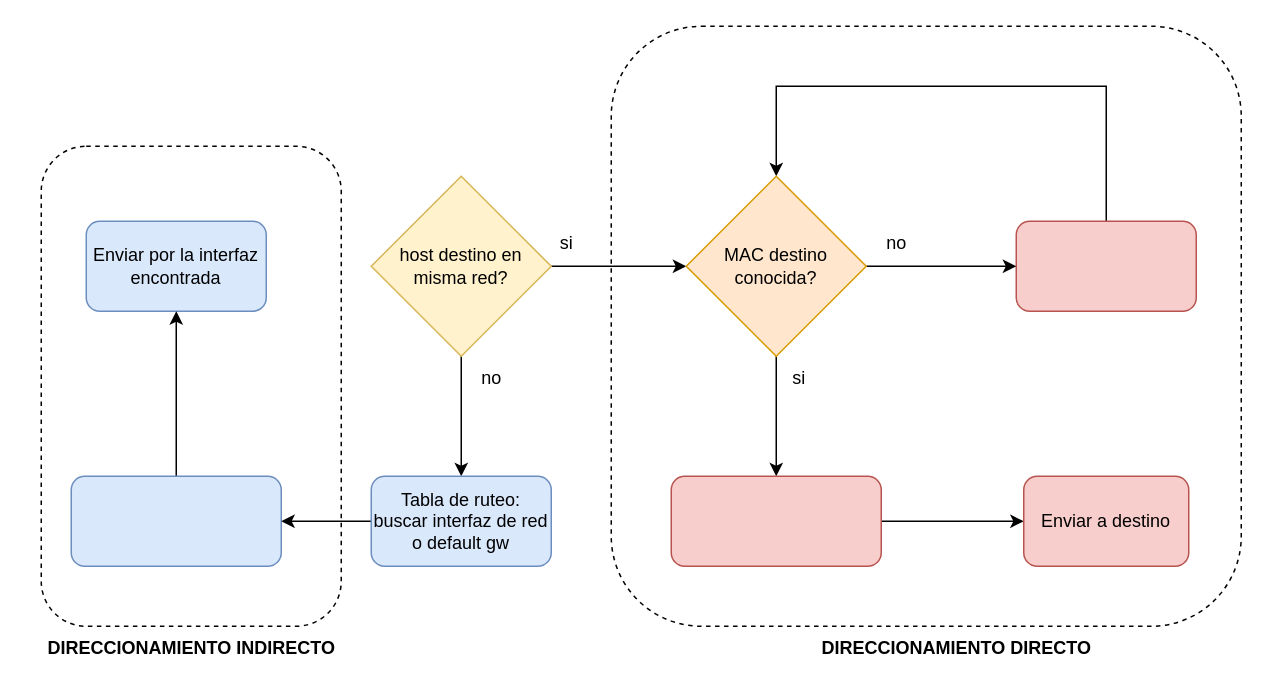
The diagram is 1268 pixels wide and 698 high, and some of its shapes have lost their labels. Each missing label, with the centre of its shape:
"Encapsular datagrama IP en trama MAC" goes at point 775,520.
"Encapsular IP en trama MAC con la MAC del prox destino o default gw" goes at point 175,520.
"Protocolo ARP" goes at point 1105,265.
